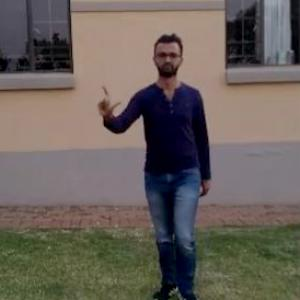land_hand: (92, 86, 125, 120)
